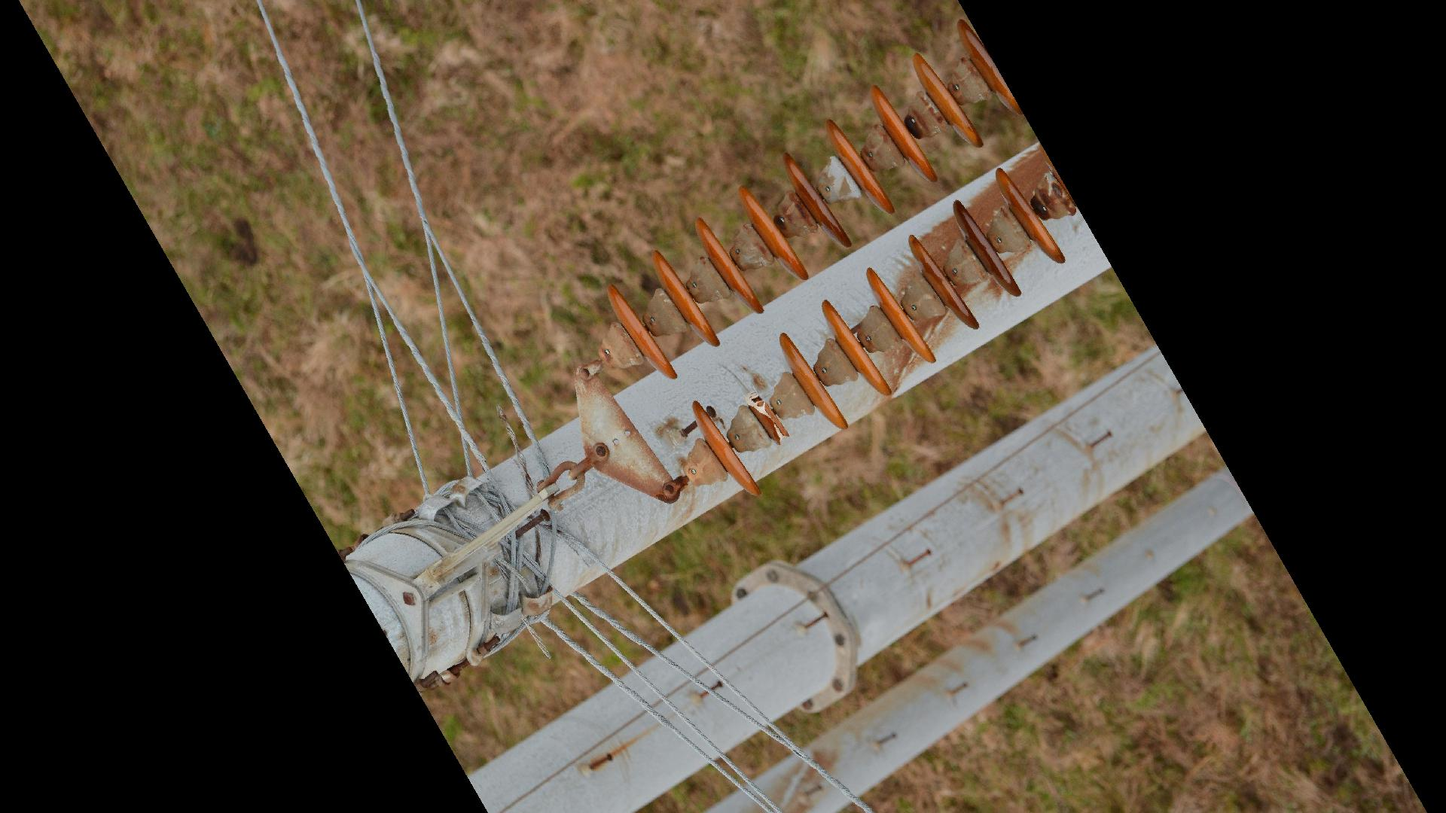insulator: (599, 11, 1024, 383), (774, 162, 1069, 434), (681, 394, 764, 510)
